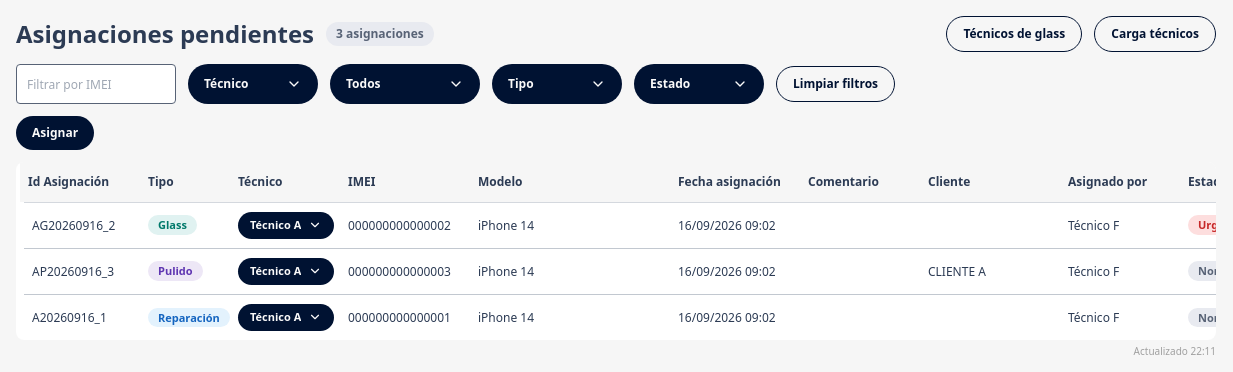
Test: AsignacionesPage › el contador y la tabla usan la lista filtrada, y un IMEI incompleto no filtra
expect the text "A20260916_1" is shown: met, box x1=20 y1=294 x2=140 y2=340
# Tecleando a medias la tabla no se toca: el filtro solo cuenta con los IMEIs de 15 dígitos.
Type "00000" into the field labelled "Filtrar por IMEI" at coordinates (96, 84), box x1=16 y1=64 x2=176 y2=104
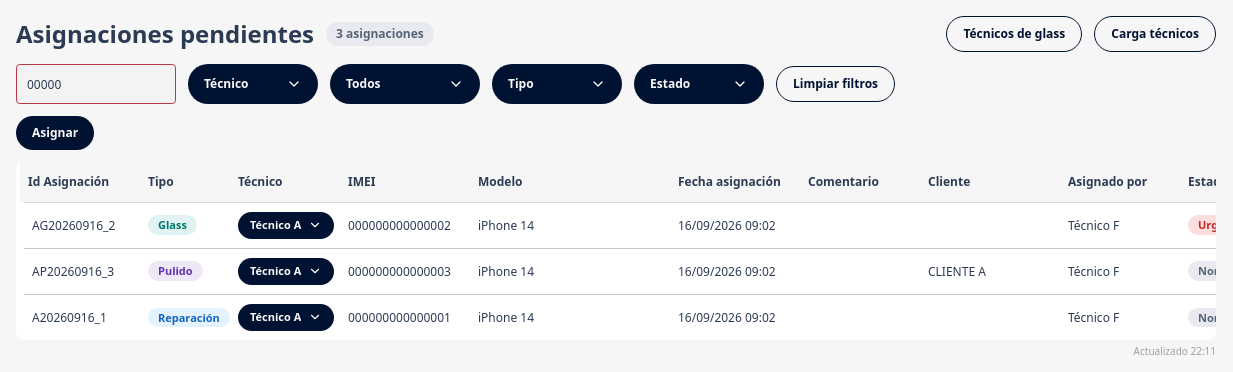
expect the text "3 asignaciones" is shown: met, box x1=326 y1=22 x2=434 y2=46
Type "0000000001" into the field named "Filtrar por IMEI" at coordinates (96, 84), box x1=16 y1=64 x2=176 y2=104
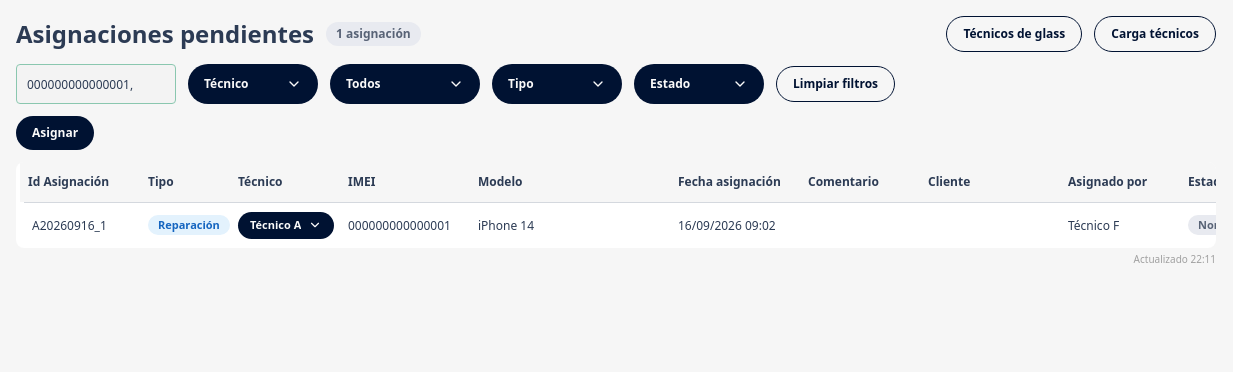
expect the text "A20260916_1" is shown: met, box x1=20 y1=202 x2=140 y2=248
expect the text "1 asignación" is shown: met, box x1=326 y1=22 x2=421 y2=46
expect the text "AG20260916_2" is gone: met
